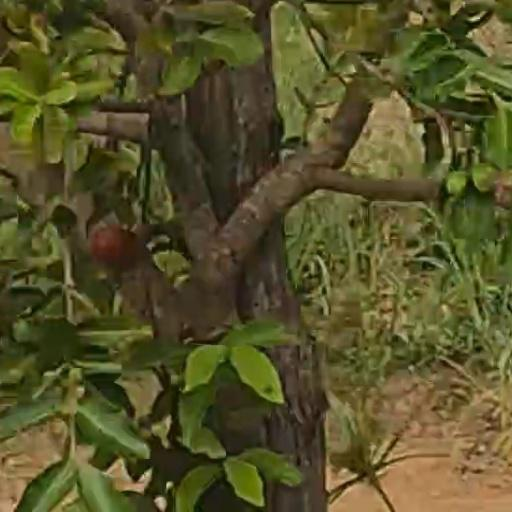acerola_verde: (470, 162, 497, 190)
acerola_vermelha: (92, 226, 135, 262), (492, 170, 512, 203)
